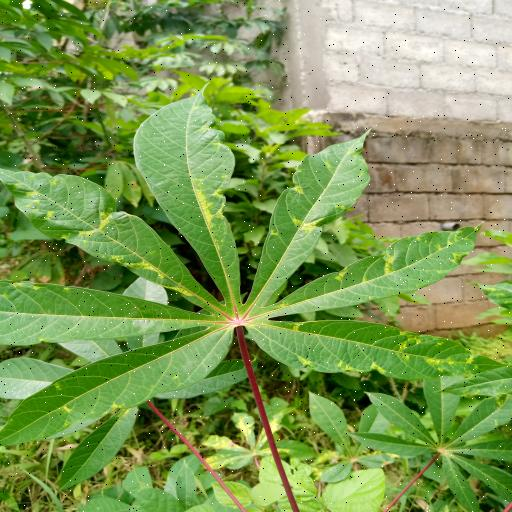Cassava_Healthy: (356, 370, 512, 512)
Cassava_Mosaic: (0, 90, 512, 451)
